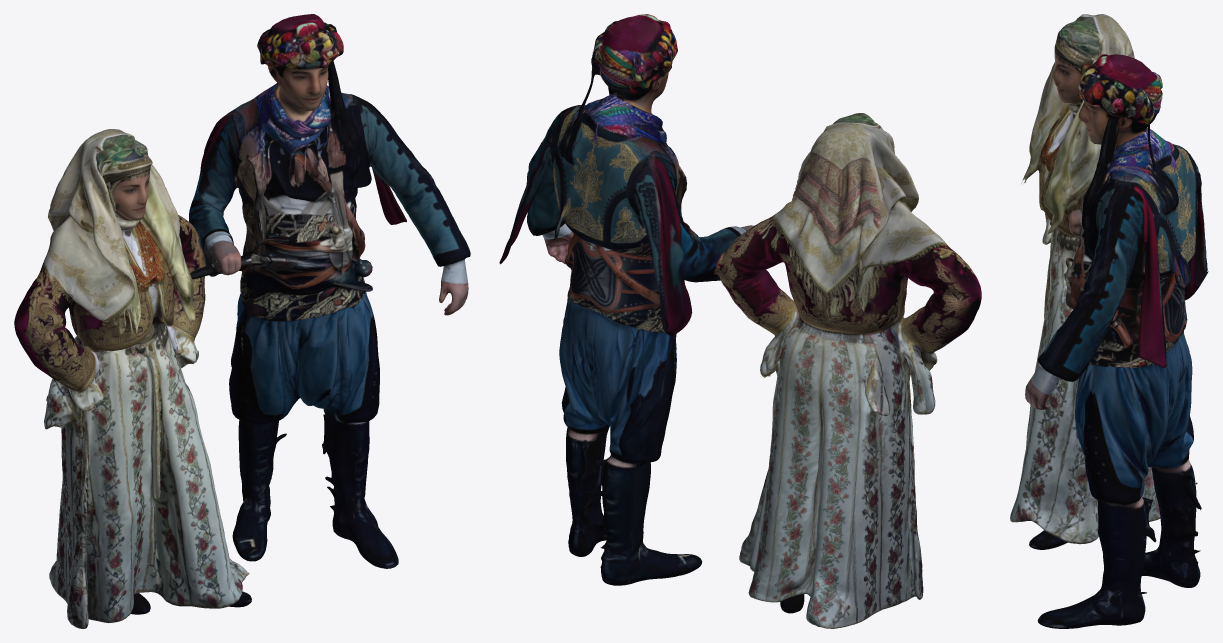
The model's file is kiyafet.glb.
The picture shows the model from 3 angles, left to right: view 1: azimuth 30°, elevation 25°; view 2: azimuth 150°, elevation 25°; view 3: azimuth 270°, elevation 25°; orthographic projection.
Parts seen in each view (by area): view 1: tripo_node_513ded24-8636-40b5-b72f-84a7fdb18543; view 2: tripo_node_513ded24-8636-40b5-b72f-84a7fdb18543; view 3: tripo_node_513ded24-8636-40b5-b72f-84a7fdb18543.
Part boxes in pixels (x1,y1,x2,y2): tripo_node_513ded24-8636-40b5-b72f-84a7fdb18543: [14, 14, 470, 628]; tripo_node_513ded24-8636-40b5-b72f-84a7fdb18543: [499, 14, 981, 628]; tripo_node_513ded24-8636-40b5-b72f-84a7fdb18543: [1010, 14, 1208, 628].
Bounding box in the file's own units: 0.8541 × 0.9754 × 0.3254.
Materials: 1 (1 with a texture image).
